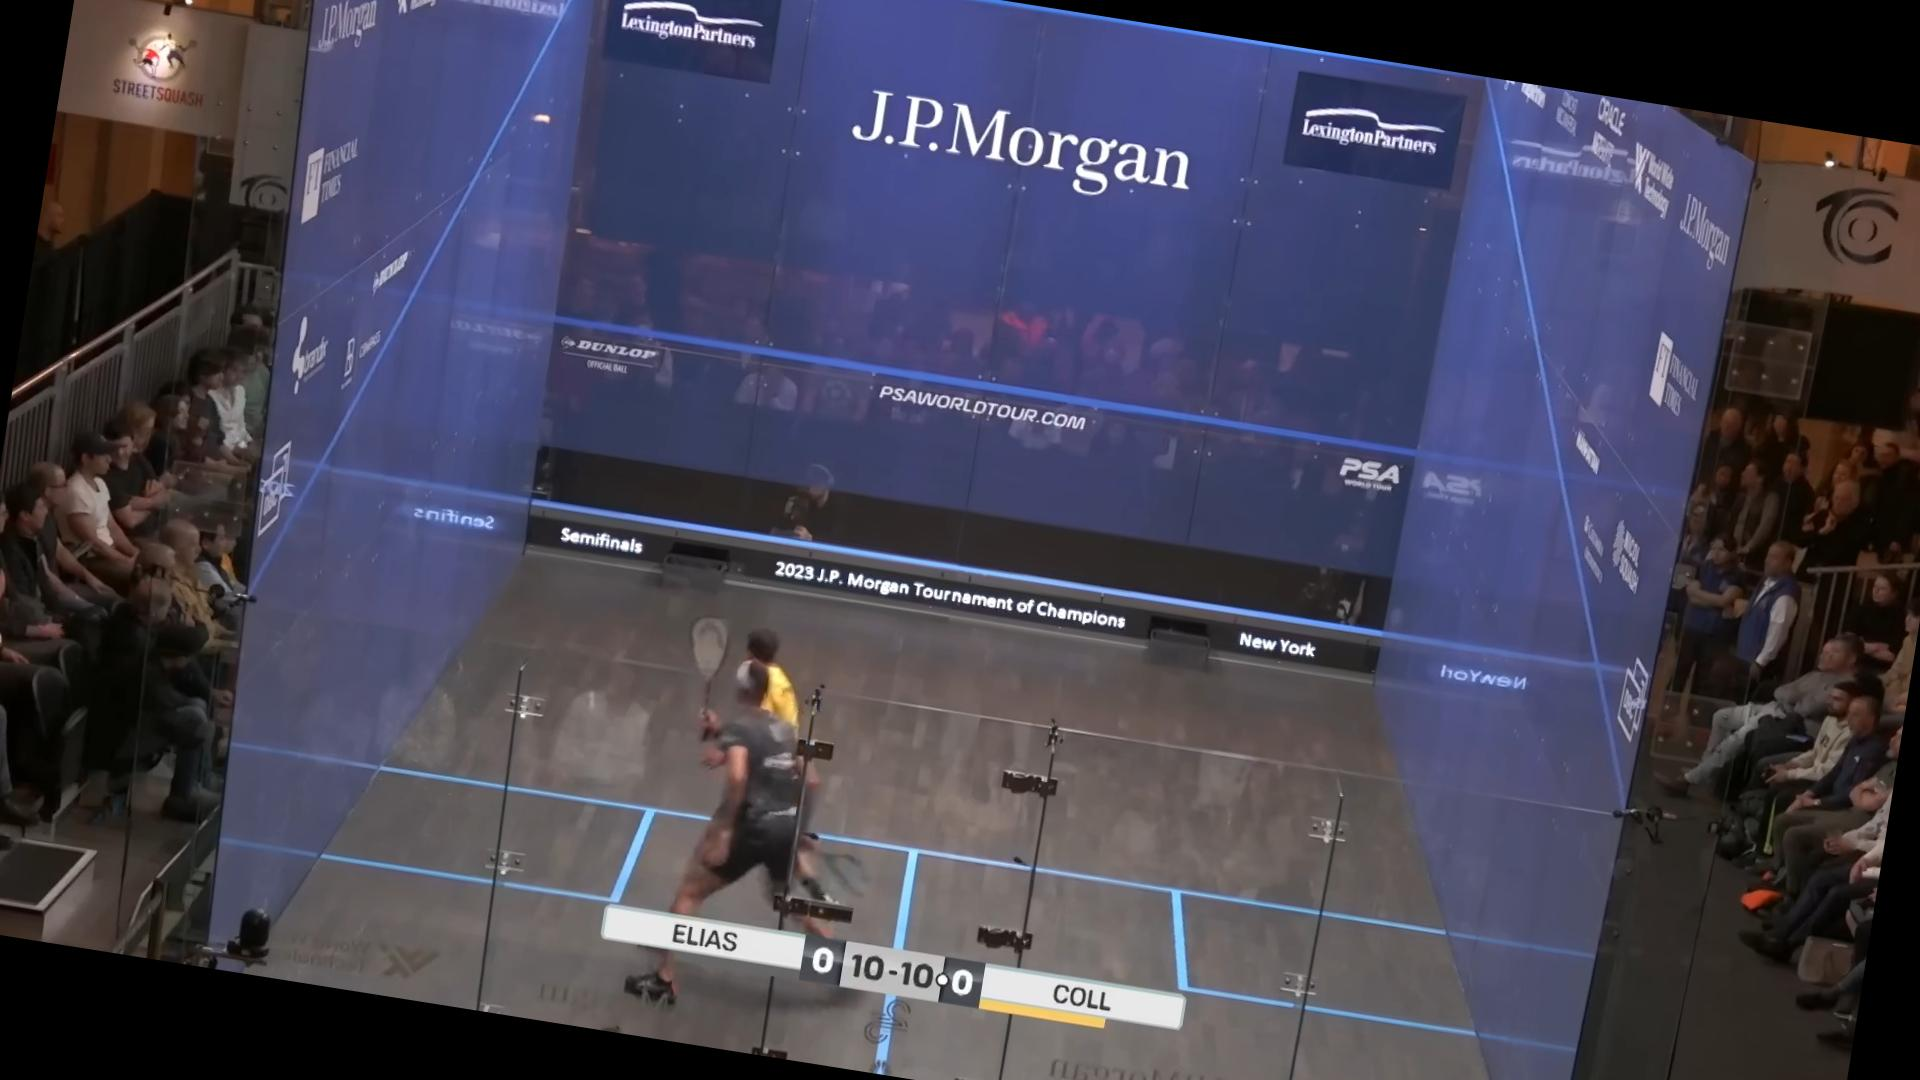Racket: (670, 599, 740, 745), (796, 832, 887, 902)
